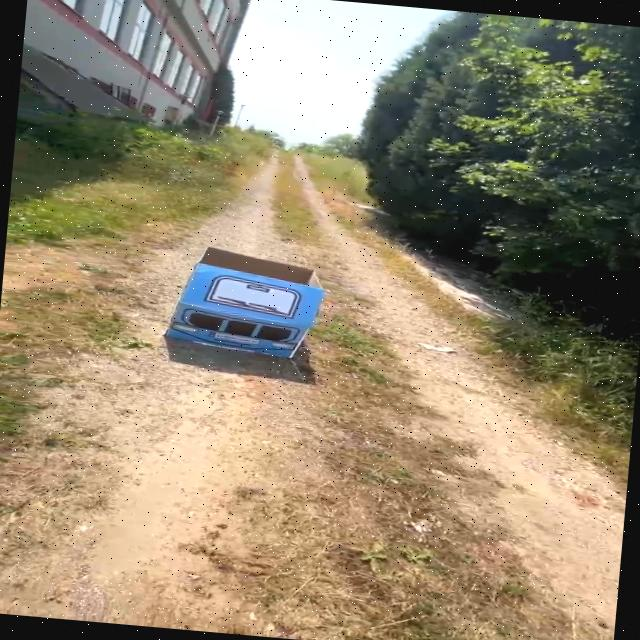blue_car: (145, 230, 332, 377)
